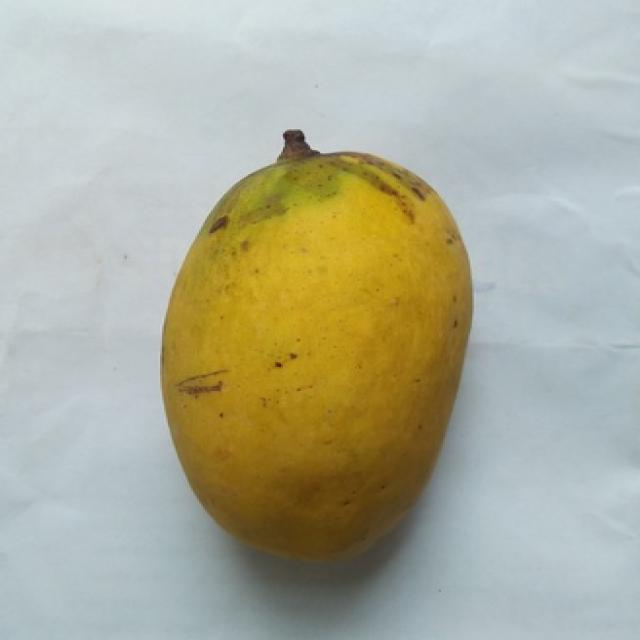Mango: (164, 152, 470, 559)
